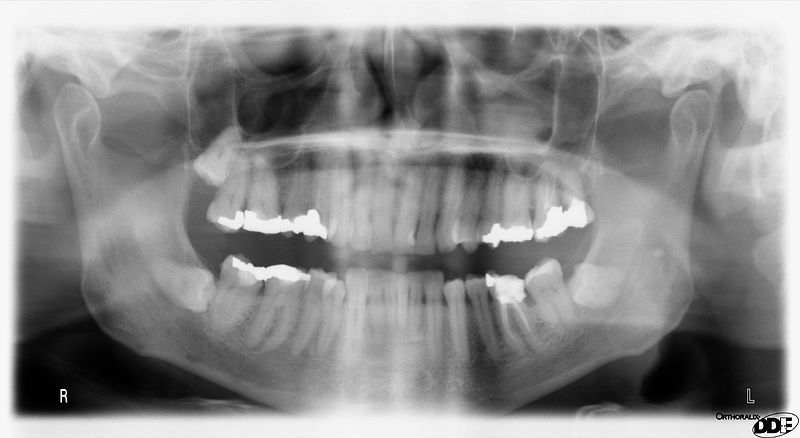canine: (422, 268, 444, 374)
incisor: (403, 261, 426, 367)
molar: (245, 251, 309, 355), (288, 257, 343, 368), (202, 243, 267, 333), (139, 247, 218, 319), (520, 253, 578, 338), (275, 149, 324, 243), (188, 120, 246, 189), (569, 255, 633, 315), (204, 162, 248, 236), (245, 155, 284, 238)
premolar: (335, 256, 372, 364), (462, 269, 498, 365), (440, 272, 469, 369), (314, 276, 345, 362)
